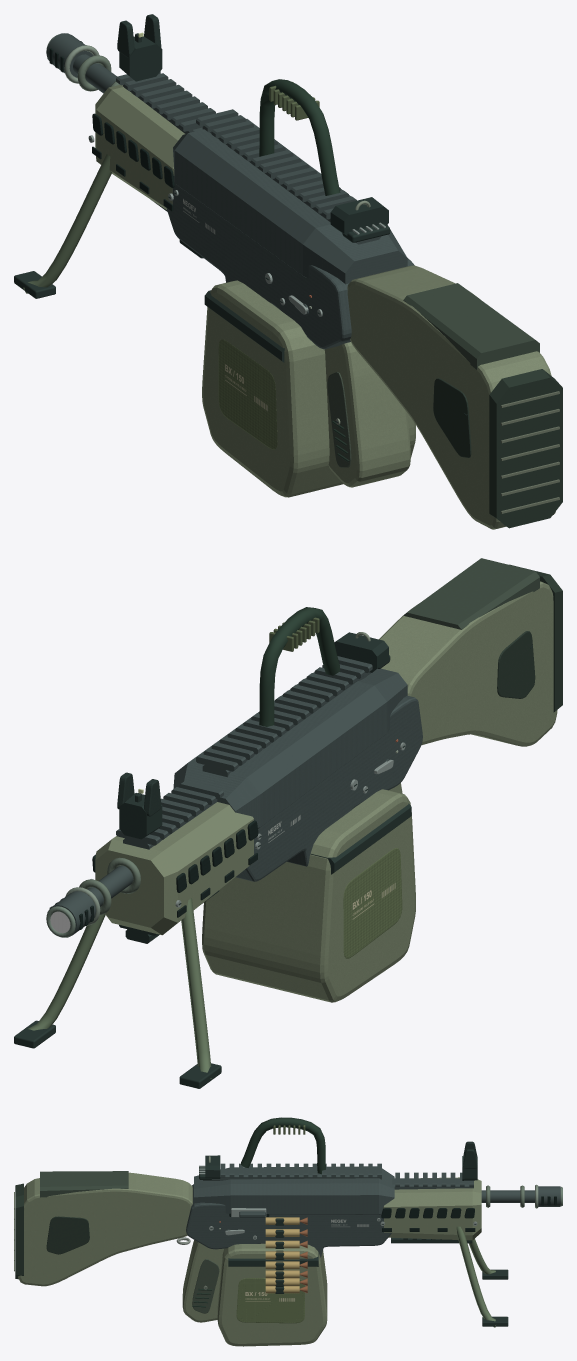
The model's file is negev.glb.
3 renders of one model, top to bottom at view 1: azimuth 30°, elevation 25°; view 2: azimuth 150°, elevation 25°; view 3: azimuth 270°, elevation 25°, orthographic. The views are drawn at different scales.
Parts seen in each view (by area): view 1: negev, magazine, topCover; view 2: negev, magazine, topCover; view 3: negev, magazine, topCover, bolt.
Part boxes in pixels (box(x1,y1,x2,y2)): negev: box(14, 14, 562, 529); magazine: box(202, 280, 415, 497); topCover: box(173, 119, 407, 284); negev: box(14, 558, 562, 1088); magazine: box(202, 789, 415, 1002); topCover: box(173, 668, 407, 828); negev: box(14, 1117, 562, 1327); magazine: box(217, 1216, 327, 1346); topCover: box(194, 1166, 394, 1214); bolt: box(231, 1208, 266, 1217).
Bounding box in the file's own units: 0.3571 × 0.6578 × 1.55.
31 materials, 18 textured.
